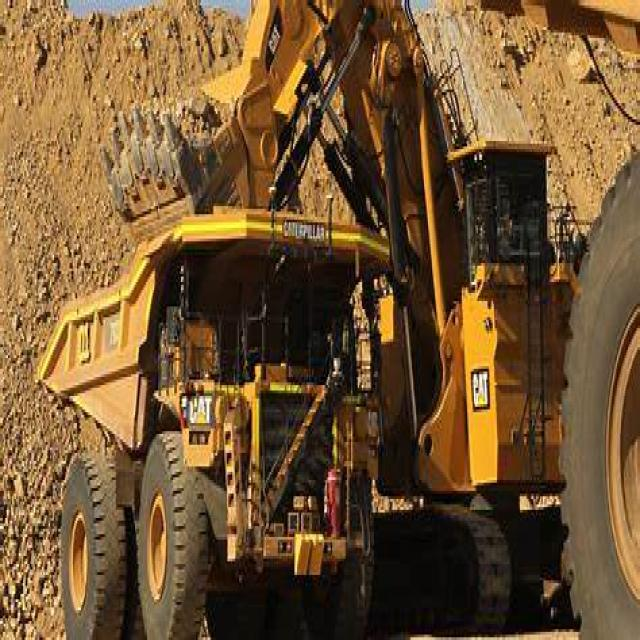dump_truck: (34, 193, 385, 637)
